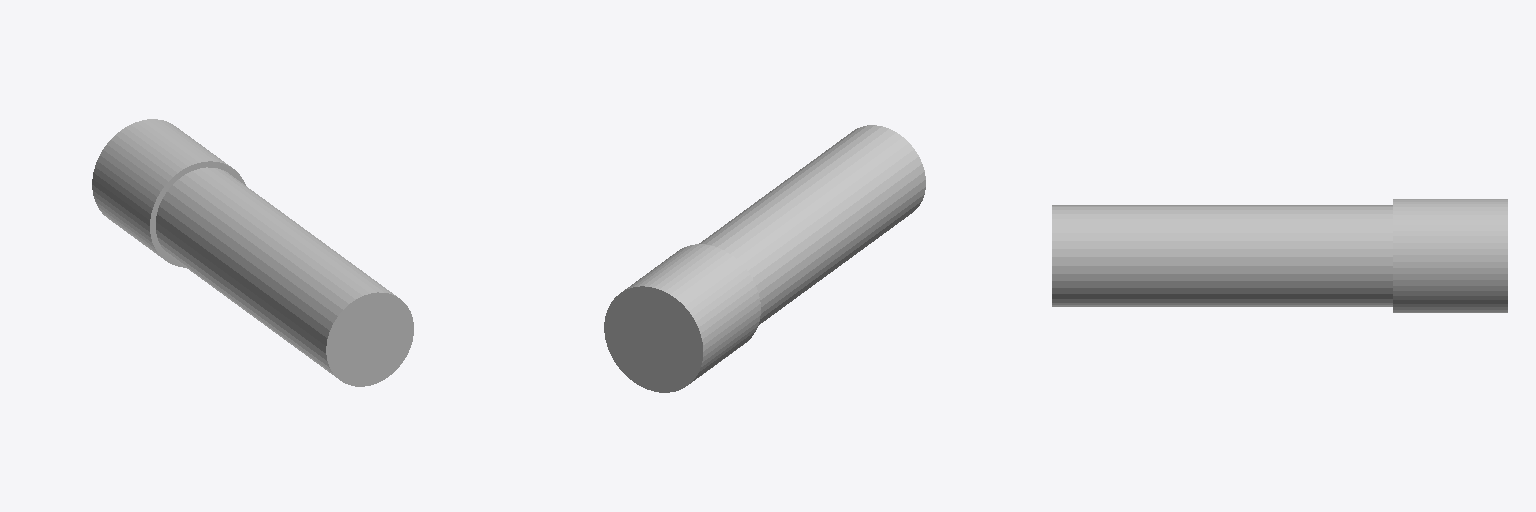
The picture shows the model from 3 angles: view 1: azimuth 30°, elevation 25°; view 2: azimuth 150°, elevation 25°; view 3: azimuth 270°, elevation 25°; orthographic projection.
Parts seen in each view (by area): view 1: 样品管; view 2: 样品管; view 3: 样品管.
Boxes of the visible parts, x1=… form: 样品管: x1=92, y1=119, x2=413, y2=386; 样品管: x1=604, y1=125, x2=925, y2=392; 样品管: x1=1052, y1=199, x2=1507, y2=312.
Size of the model in its own units: 0.0124 by 0.0124 by 0.0495.